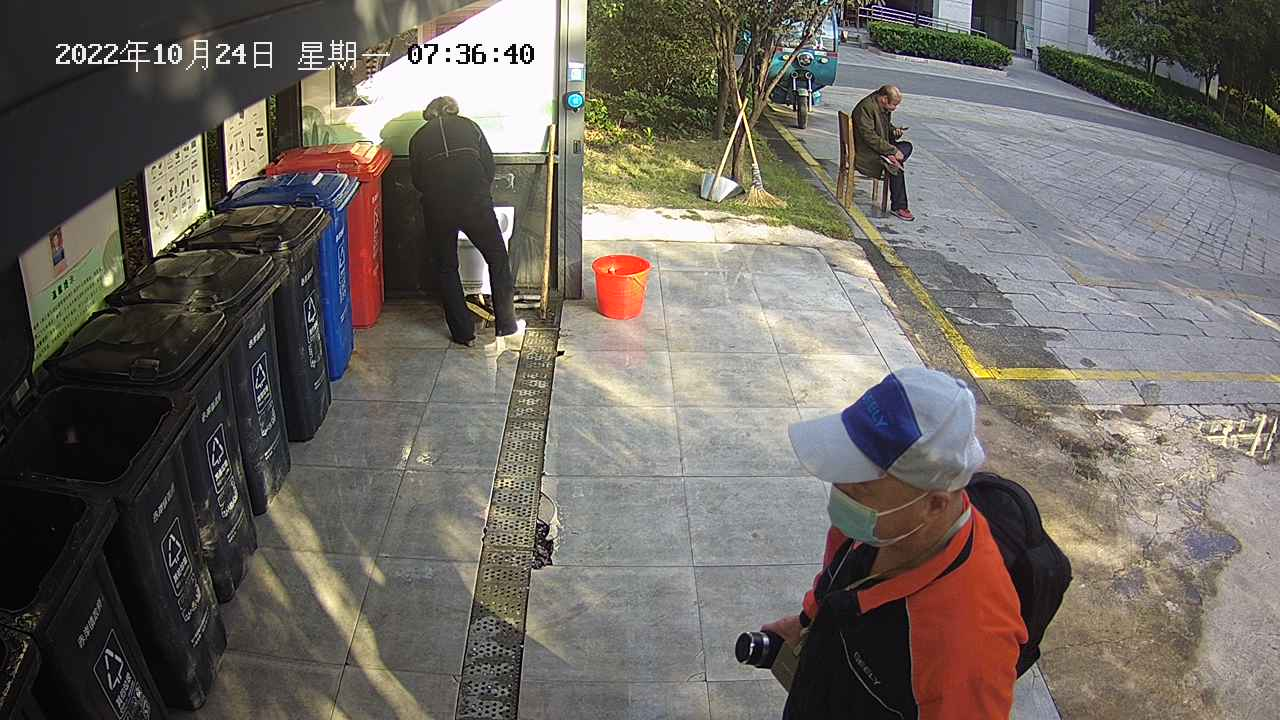person: (407, 89, 537, 352), (838, 79, 923, 227)
worker: (726, 364, 1082, 720)
youtong: (587, 249, 659, 325)
